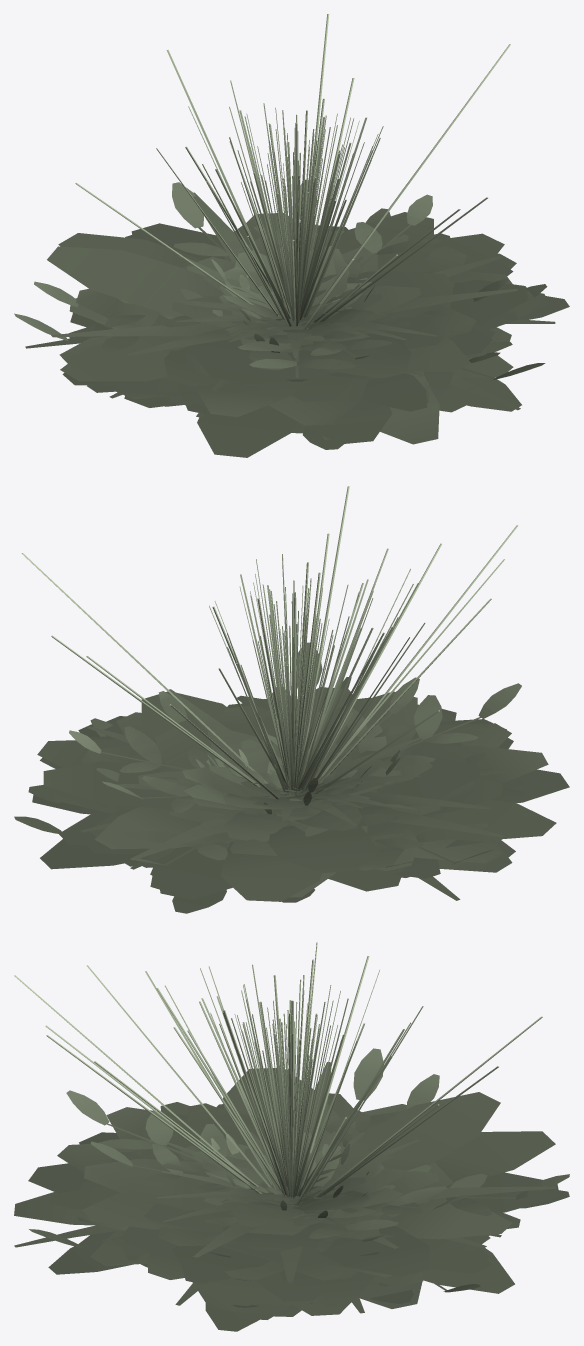
File: herb_rosette.glb
The picture shows the model from 3 angles, top to bottom: view 1: azimuth 30°, elevation 25°; view 2: azimuth 150°, elevation 25°; view 3: azimuth 270°, elevation 25°; orthographic projection.
Visible parts, largest first — view 1: v5_foliage, v13_foliage, v9_foliage, v2_foliage, v18_foliage, v6_foliage, v19_foliage, v0_foliage, v15_foliage, v14_foliage, v3_foliage, v10_foliage (+9 smaller); view 2: v5_foliage, v13_foliage, v9_foliage, v18_foliage, v0_foliage, v6_foliage, v2_foliage, v14_foliage, v19_foliage, v15_foliage, v3_foliage, v8_foliage (+8 smaller); view 3: v5_foliage, v13_foliage, v9_foliage, v2_foliage, v18_foliage, v6_foliage, v0_foliage, v14_foliage, v19_foliage, v15_foliage, v3_foliage, v10_foliage (+9 smaller).
Part boxes in pixels (x1,y1,x2,y2): v5_foliage: (59, 110, 550, 444); v13_foliage: (47, 117, 528, 457); v9_foliage: (14, 122, 547, 390); v2_foliage: (69, 44, 569, 414); v18_foliage: (25, 98, 555, 439); v6_foliage: (172, 115, 421, 344); v19_foliage: (163, 110, 437, 357); v0_foliage: (125, 14, 488, 449); v15_foliage: (219, 113, 388, 339); v14_foliage: (198, 125, 377, 370); v3_foliage: (202, 80, 308, 323); v10_foliage: (211, 122, 374, 352); v5_foliage: (32, 548, 548, 897); v13_foliage: (37, 562, 569, 901); v9_foliage: (14, 592, 521, 869); v18_foliage: (80, 572, 504, 900); v0_foliage: (28, 486, 518, 913); v6_foliage: (174, 585, 400, 843); v2_foliage: (21, 533, 538, 889); v14_foliage: (138, 576, 432, 840); v19_foliage: (159, 601, 422, 835); v15_foliage: (209, 582, 386, 815); v3_foliage: (227, 568, 425, 795); v8_foliage: (238, 587, 361, 790); v5_foliage: (14, 959, 514, 1319); v13_foliage: (28, 975, 559, 1316); v9_foliage: (29, 1000, 569, 1307); v2_foliage: (48, 956, 520, 1331); v18_foliage: (14, 998, 556, 1313); v6_foliage: (204, 1010, 402, 1235); v0_foliage: (14, 971, 569, 1303); v14_foliage: (180, 999, 439, 1239); v19_foliage: (156, 1002, 418, 1231); v15_foliage: (221, 1018, 365, 1218); v3_foliage: (165, 964, 423, 1196); v10_foliage: (210, 1000, 369, 1217).
Size of the model in its own units: 2.27 by 1 by 2.27.
